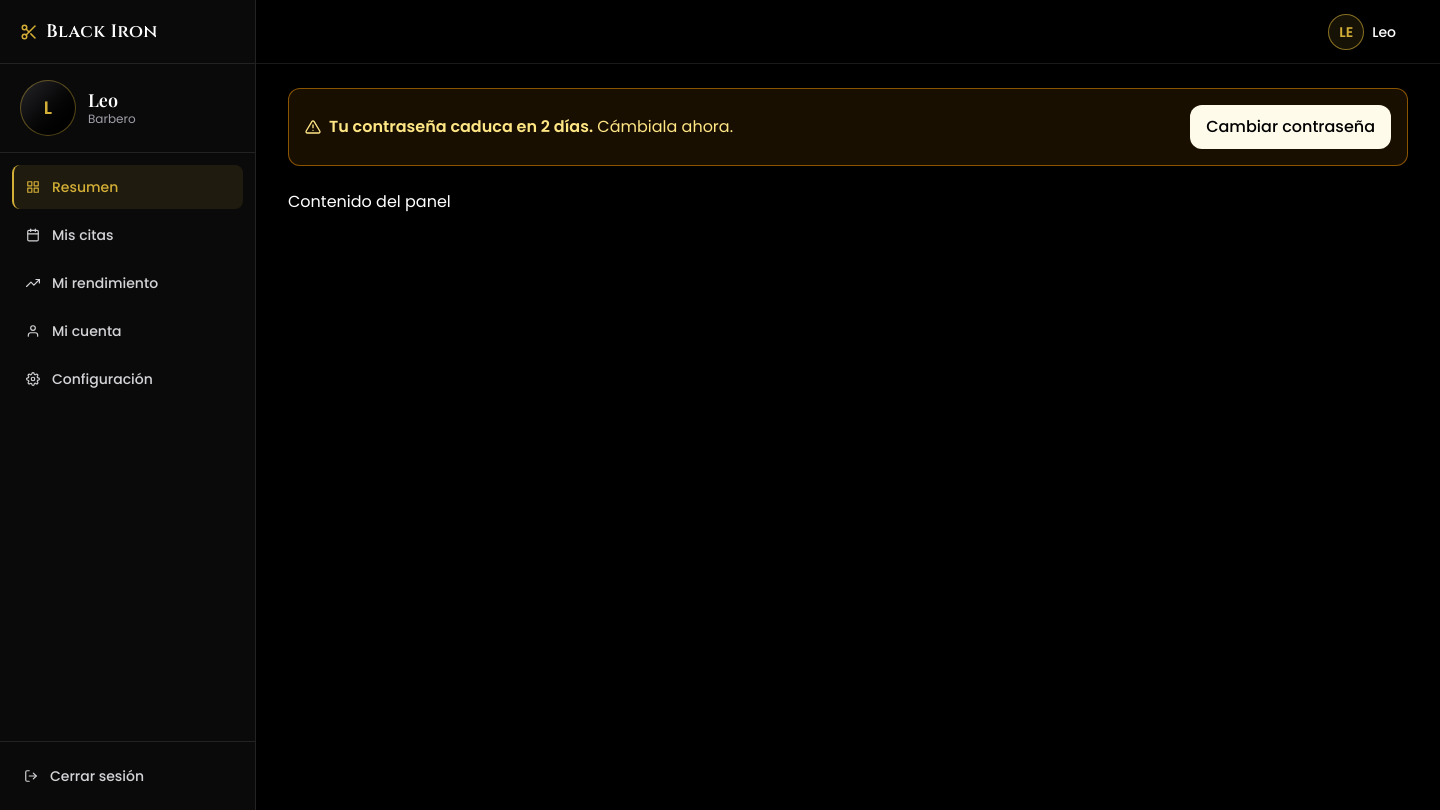
Test case: Panel del barbero según la caducidad de su contraseña › por vencer: avisa con los días que faltan y el formulario solo aparece al pedirlo
Expected: the text "Tu contraseña caduca en 2 días. Cámbiala ahora. Cambiar contraseña" is shown, [305,105,1391,149]
Expected: the field labelled "Contraseña actual" is not shown
Click the button "Cambiar contraseña" at [1291, 127], box [1190,105,1391,149]
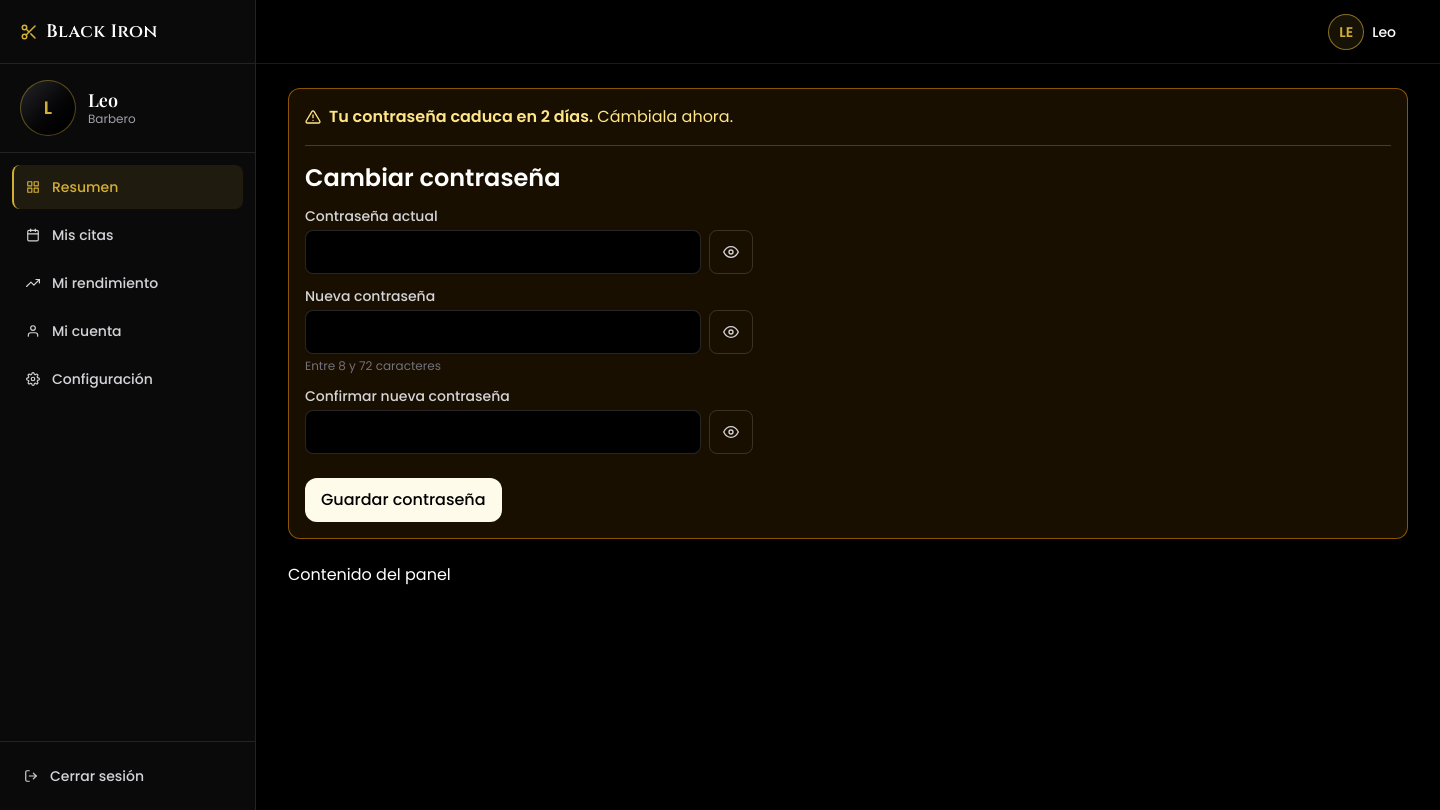
Expected: the password field labelled "Contraseña actual" is shown, [305,230,701,274]
